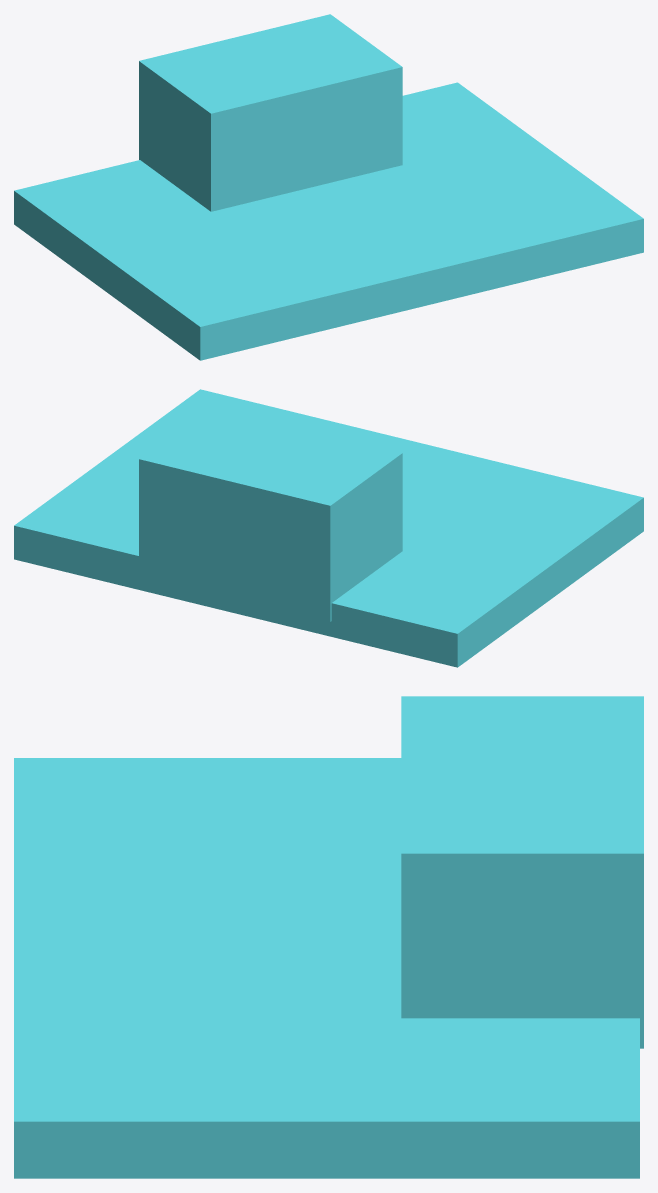
File: litio_planta.glb
The picture shows the model from 3 angles, top to bottom: view 1: azimuth 30°, elevation 25°; view 2: azimuth 150°, elevation 25°; view 3: azimuth 270°, elevation 25°; orthographic projection. The views are drawn at different scales.
Parts seen in each view (by area): view 1: litio_planta; view 2: litio_planta; view 3: litio_planta.
Part boxes in pixels (box(x1,y1,x2,y2)): litio_planta: box(14, 14, 643, 360); litio_planta: box(14, 389, 643, 667); litio_planta: box(14, 696, 643, 1178).
Size of the model in its own units: 2.2 by 0.625 by 1.61.
